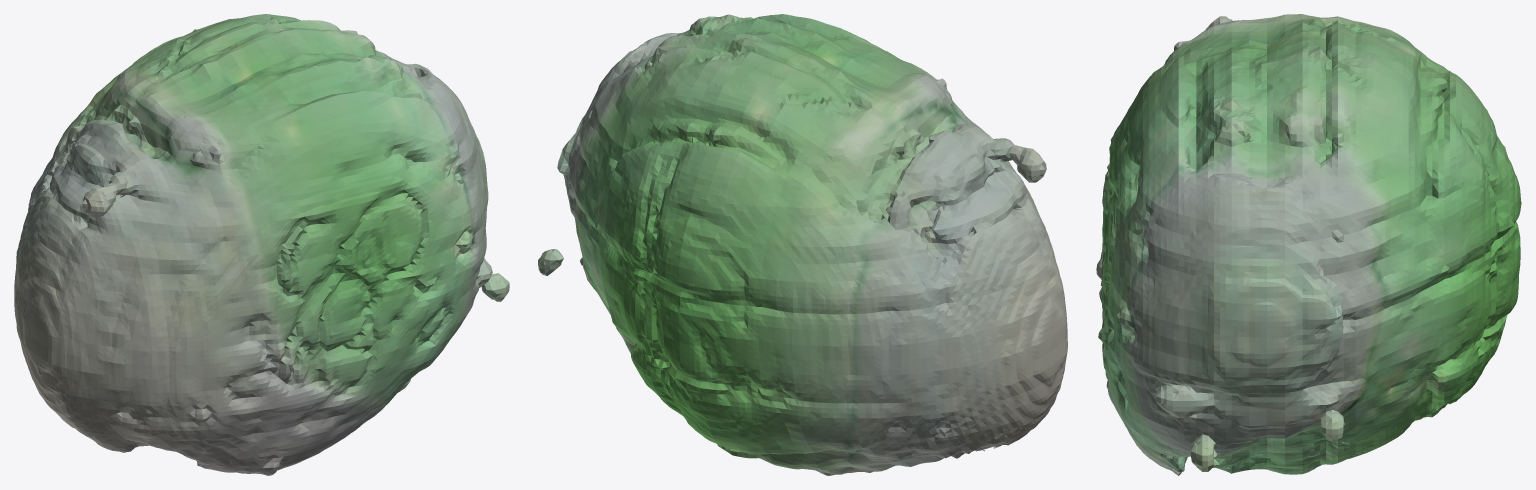
Rendered from chloroplast-triposr.glb.
The picture shows the model from 3 angles, left to right: view 1: azimuth 30°, elevation 25°; view 2: azimuth 150°, elevation 25°; view 3: azimuth 270°, elevation 25°; orthographic projection. The views are drawn at different scales.
Visible parts, largest first — view 1: geometry_0; view 2: geometry_0; view 3: geometry_0.
Boxes of the visible parts, box(x1,y1,x2,y2) form: geometry_0: box(14, 14, 509, 475); geometry_0: box(538, 14, 1067, 475); geometry_0: box(1096, 14, 1521, 475).
Bounding box in the file's own units: 0.9097 × 0.7488 × 0.6561.
